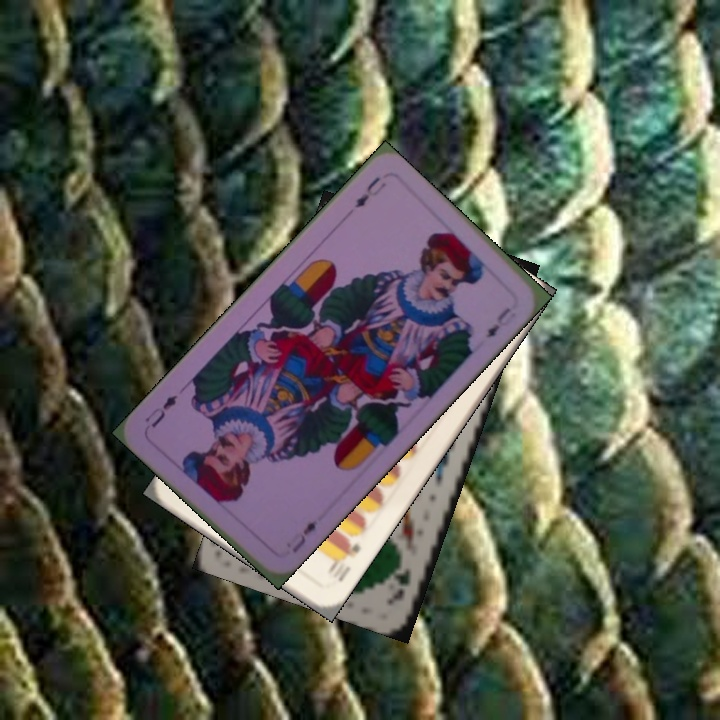E10: (323, 535, 363, 585)
EU: (350, 172, 389, 211), (287, 516, 321, 556)
GK: (389, 565, 414, 602)
